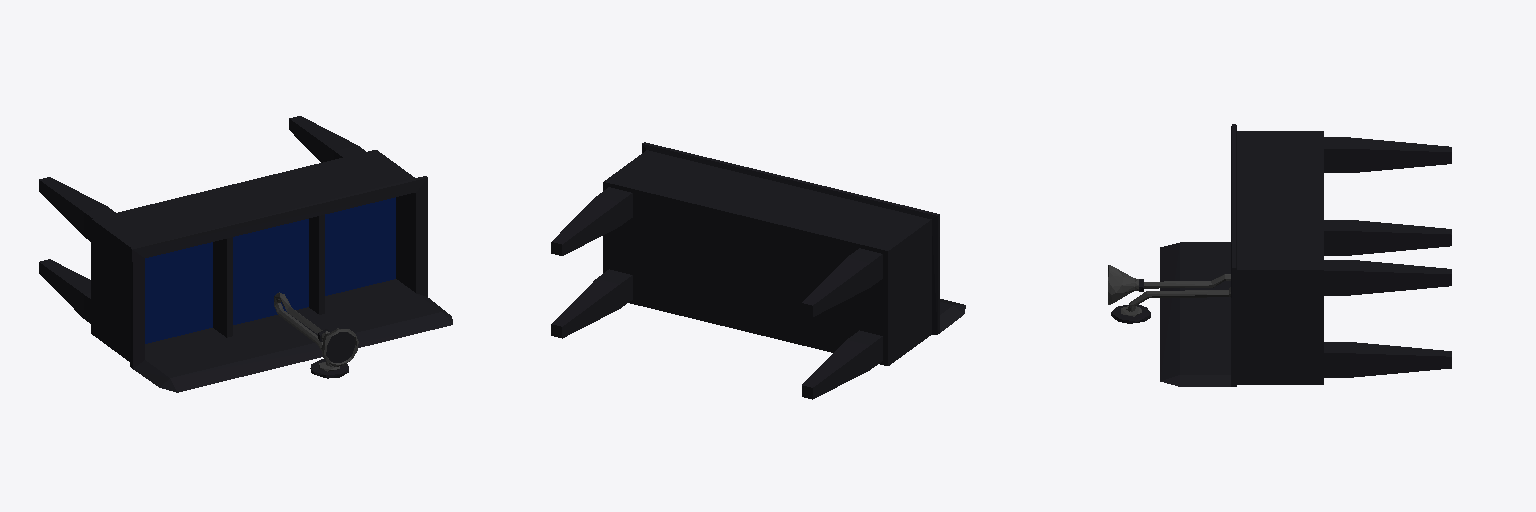
Rendered from triplesink.obj.
3 renders of one model, left to right at view 1: azimuth 30°, elevation 25°; view 2: azimuth 150°, elevation 25°; view 3: azimuth 270°, elevation 25°, orthographic.
Parts seen in each view (by area): view 1: TripleSink; view 2: TripleSink; view 3: TripleSink.
Boxes of the visible parts, box(x1,y1,x2,y2) form: TripleSink: box(39, 116, 452, 392); TripleSink: box(551, 142, 965, 399); TripleSink: box(1108, 124, 1451, 386).
Size of the model in its own units: 7.08 by 2.76 by 7.15.